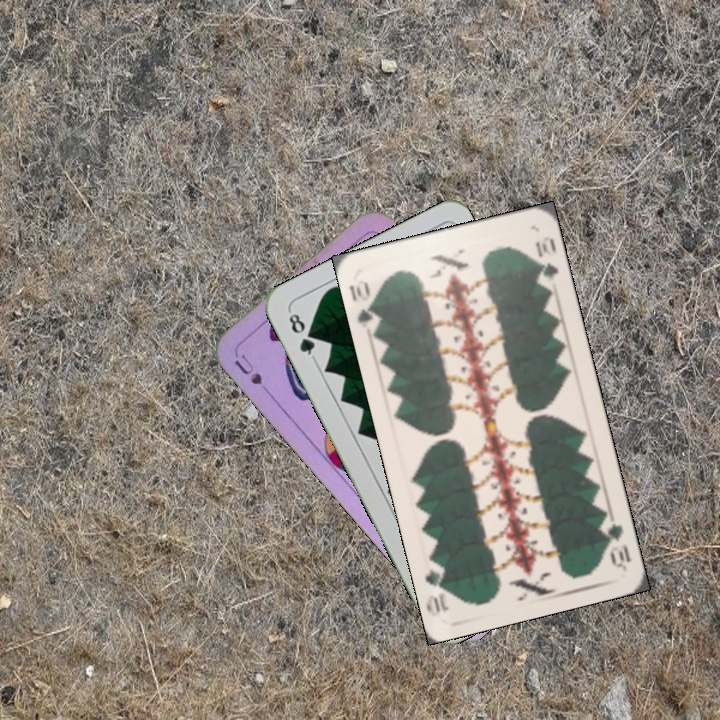G10: (597, 511, 633, 571), (346, 277, 383, 333)
G8: (284, 307, 318, 362)
SU: (230, 350, 276, 401)
